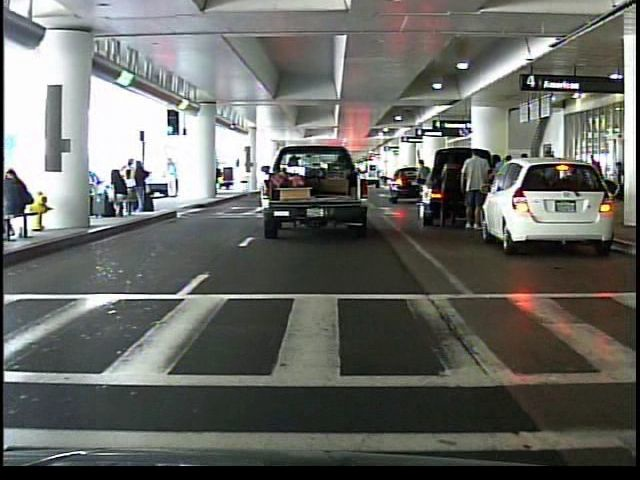person: (459, 145, 492, 236), (431, 146, 464, 230), (582, 149, 610, 200), (412, 156, 432, 208), (164, 156, 182, 199)
